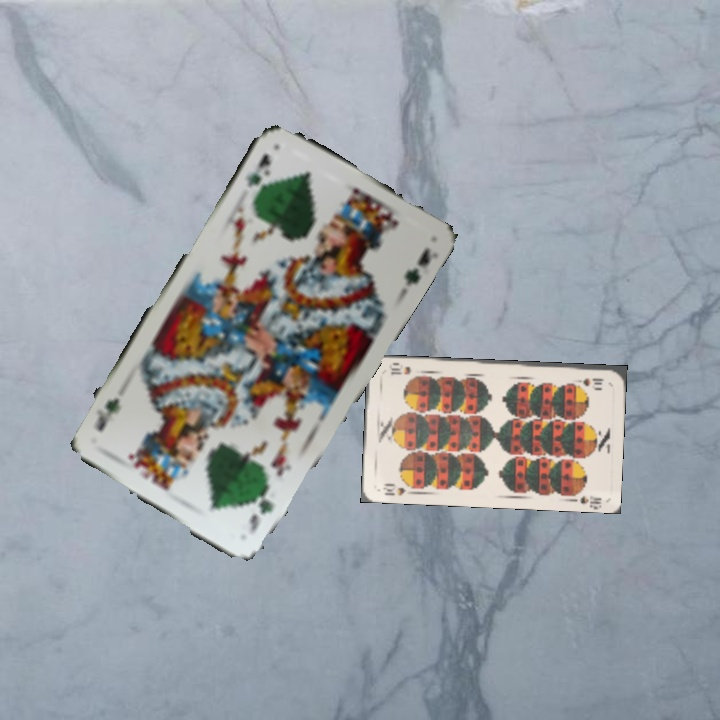GK: (245, 482, 276, 537), (241, 150, 274, 190)
S10: (379, 479, 416, 498), (569, 374, 607, 387)
